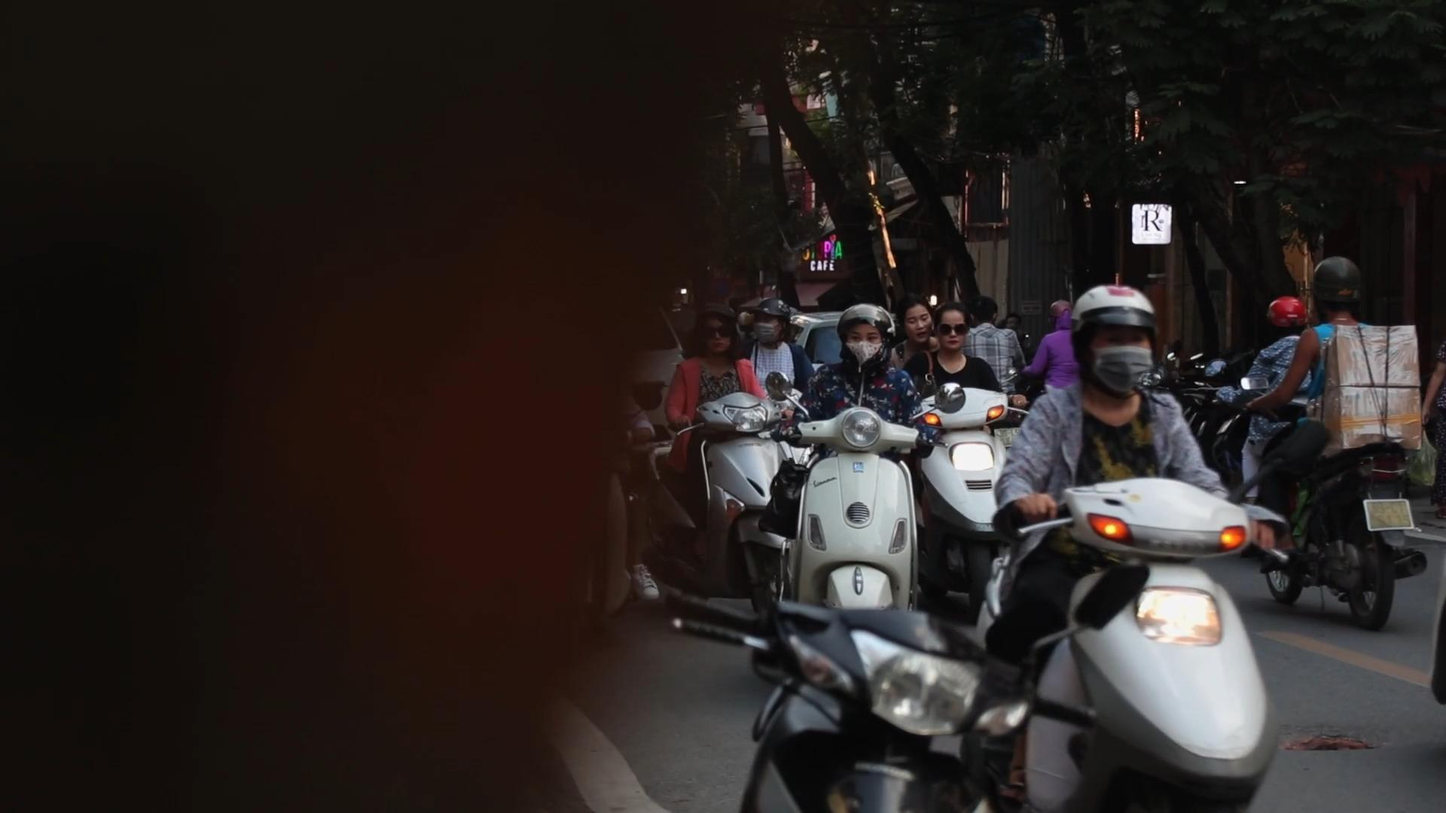driver: (971, 285, 1288, 813), (1239, 255, 1427, 634), (766, 305, 966, 613), (634, 301, 793, 628), (884, 293, 1035, 627)
helmet: (1072, 285, 1161, 401), (837, 304, 895, 373), (1313, 255, 1363, 325), (693, 300, 739, 359), (751, 296, 791, 350), (1267, 295, 1307, 339), (1046, 299, 1072, 331)
no-helmet: (896, 292, 934, 347), (935, 300, 971, 352), (971, 297, 999, 327)
